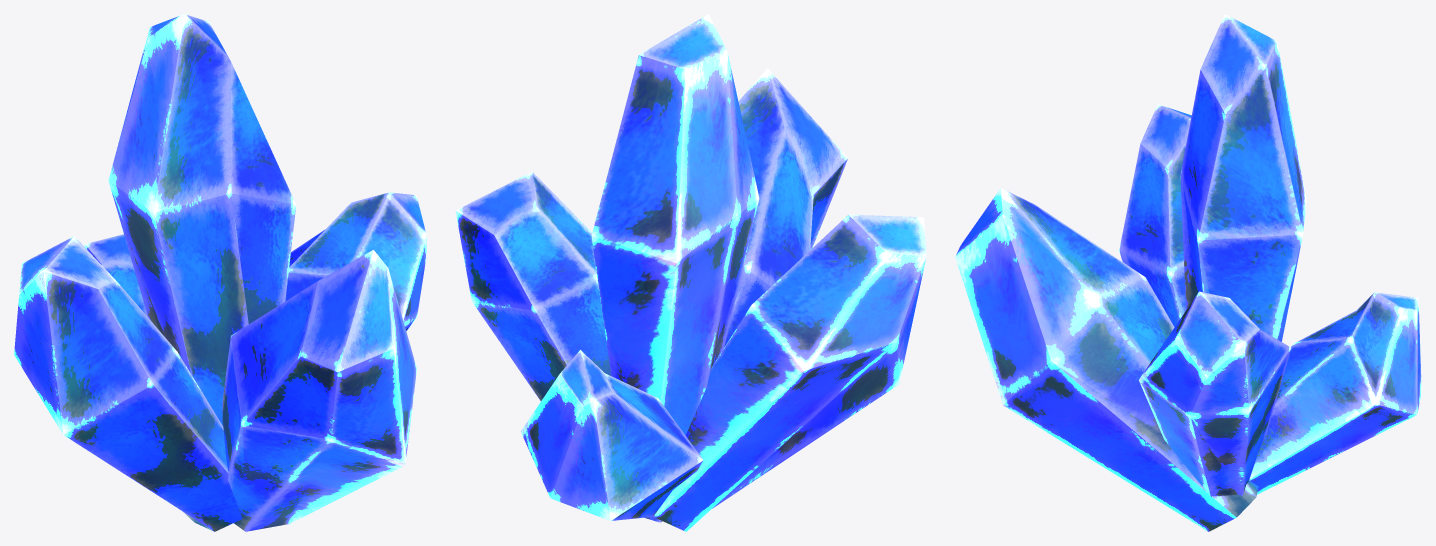
Rendered from blue2.glb.
The picture shows the model from 3 angles, left to right: view 1: azimuth 30°, elevation 25°; view 2: azimuth 150°, elevation 25°; view 3: azimuth 270°, elevation 25°; orthographic projection. The views are drawn at different scales.
Visible parts, largest first — view 1: Object_2; view 2: Object_2; view 3: Object_2.
Part boxes in pixels (<box>): Object_2: <box>14,14,426,531</box>; Object_2: <box>455,14,926,531</box>; Object_2: <box>955,14,1421,531</box>.
Size of the model in its own units: 0.896 by 1.04 by 0.9236.
1 material, 1 textured.
